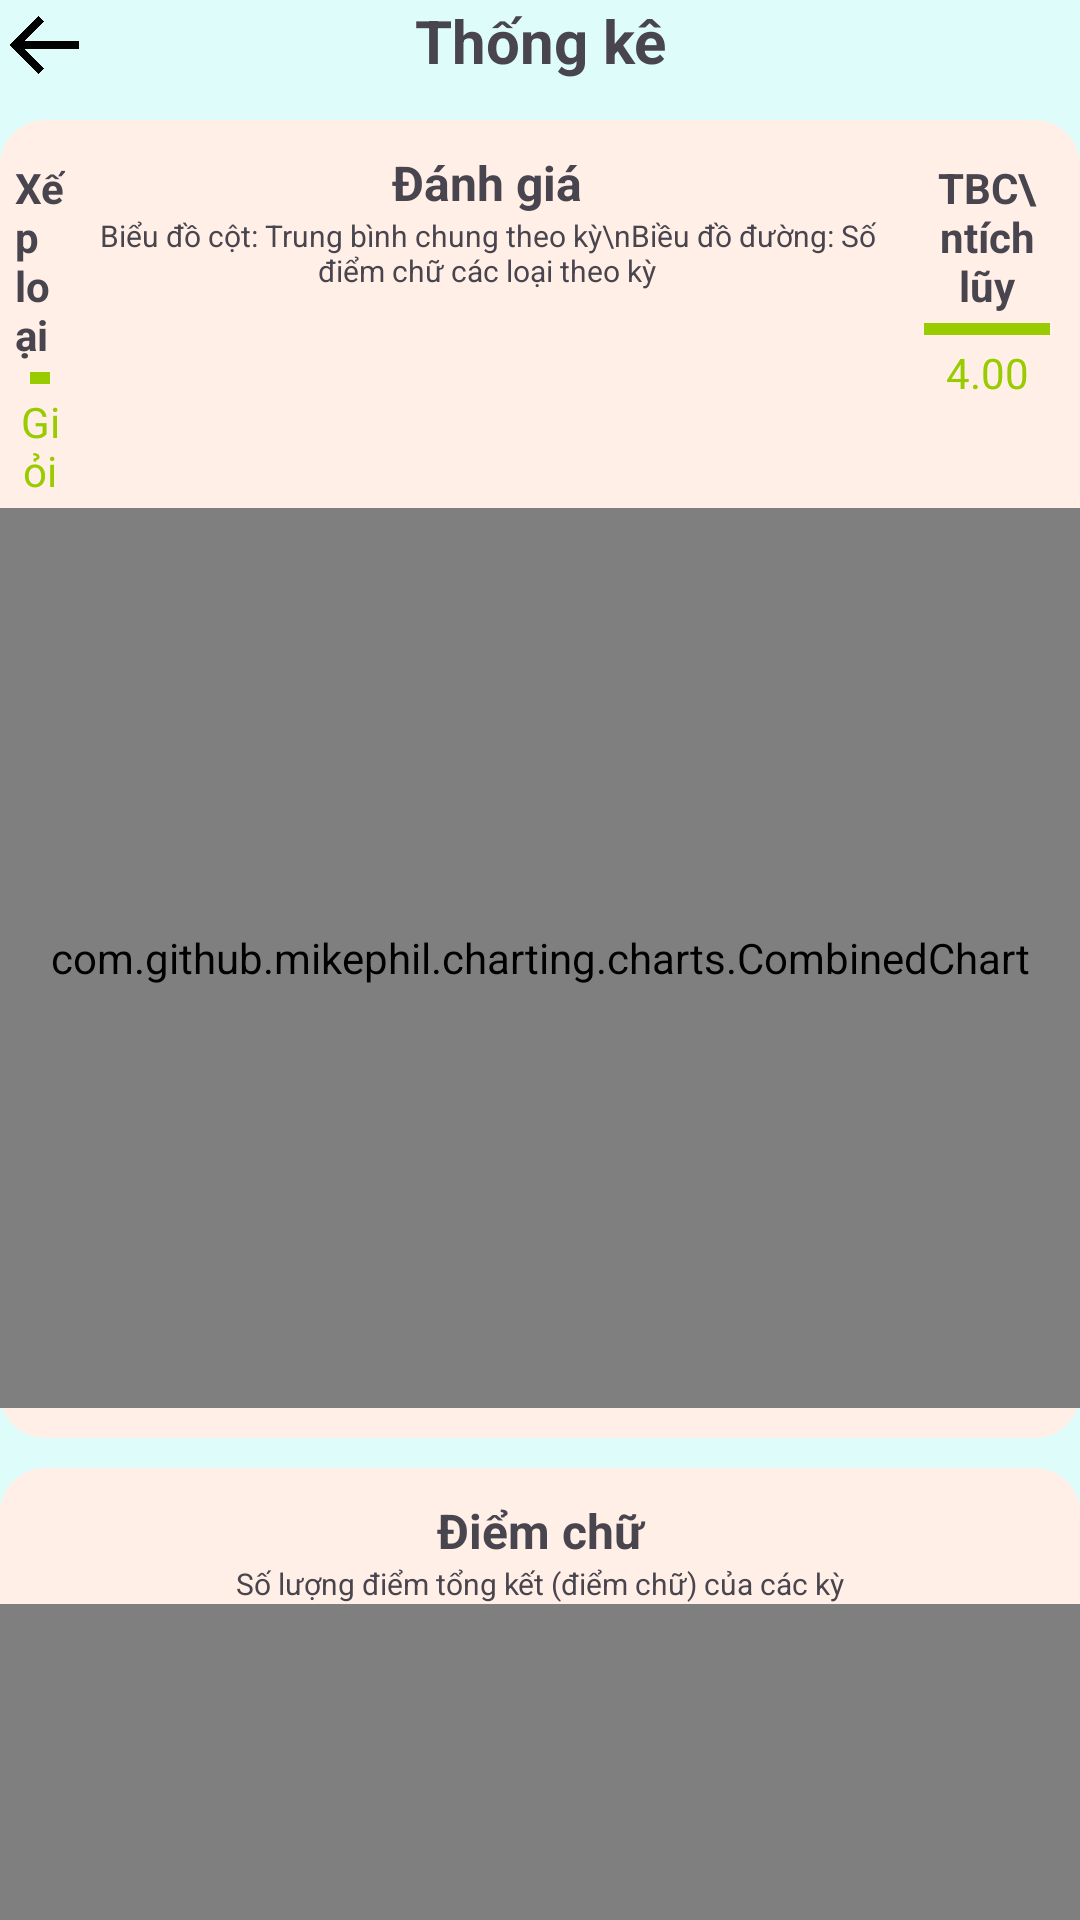

Icons on this 1080px x 1920px Android screen, each with the point to tap as point (x, y):
back: point (44, 45)
